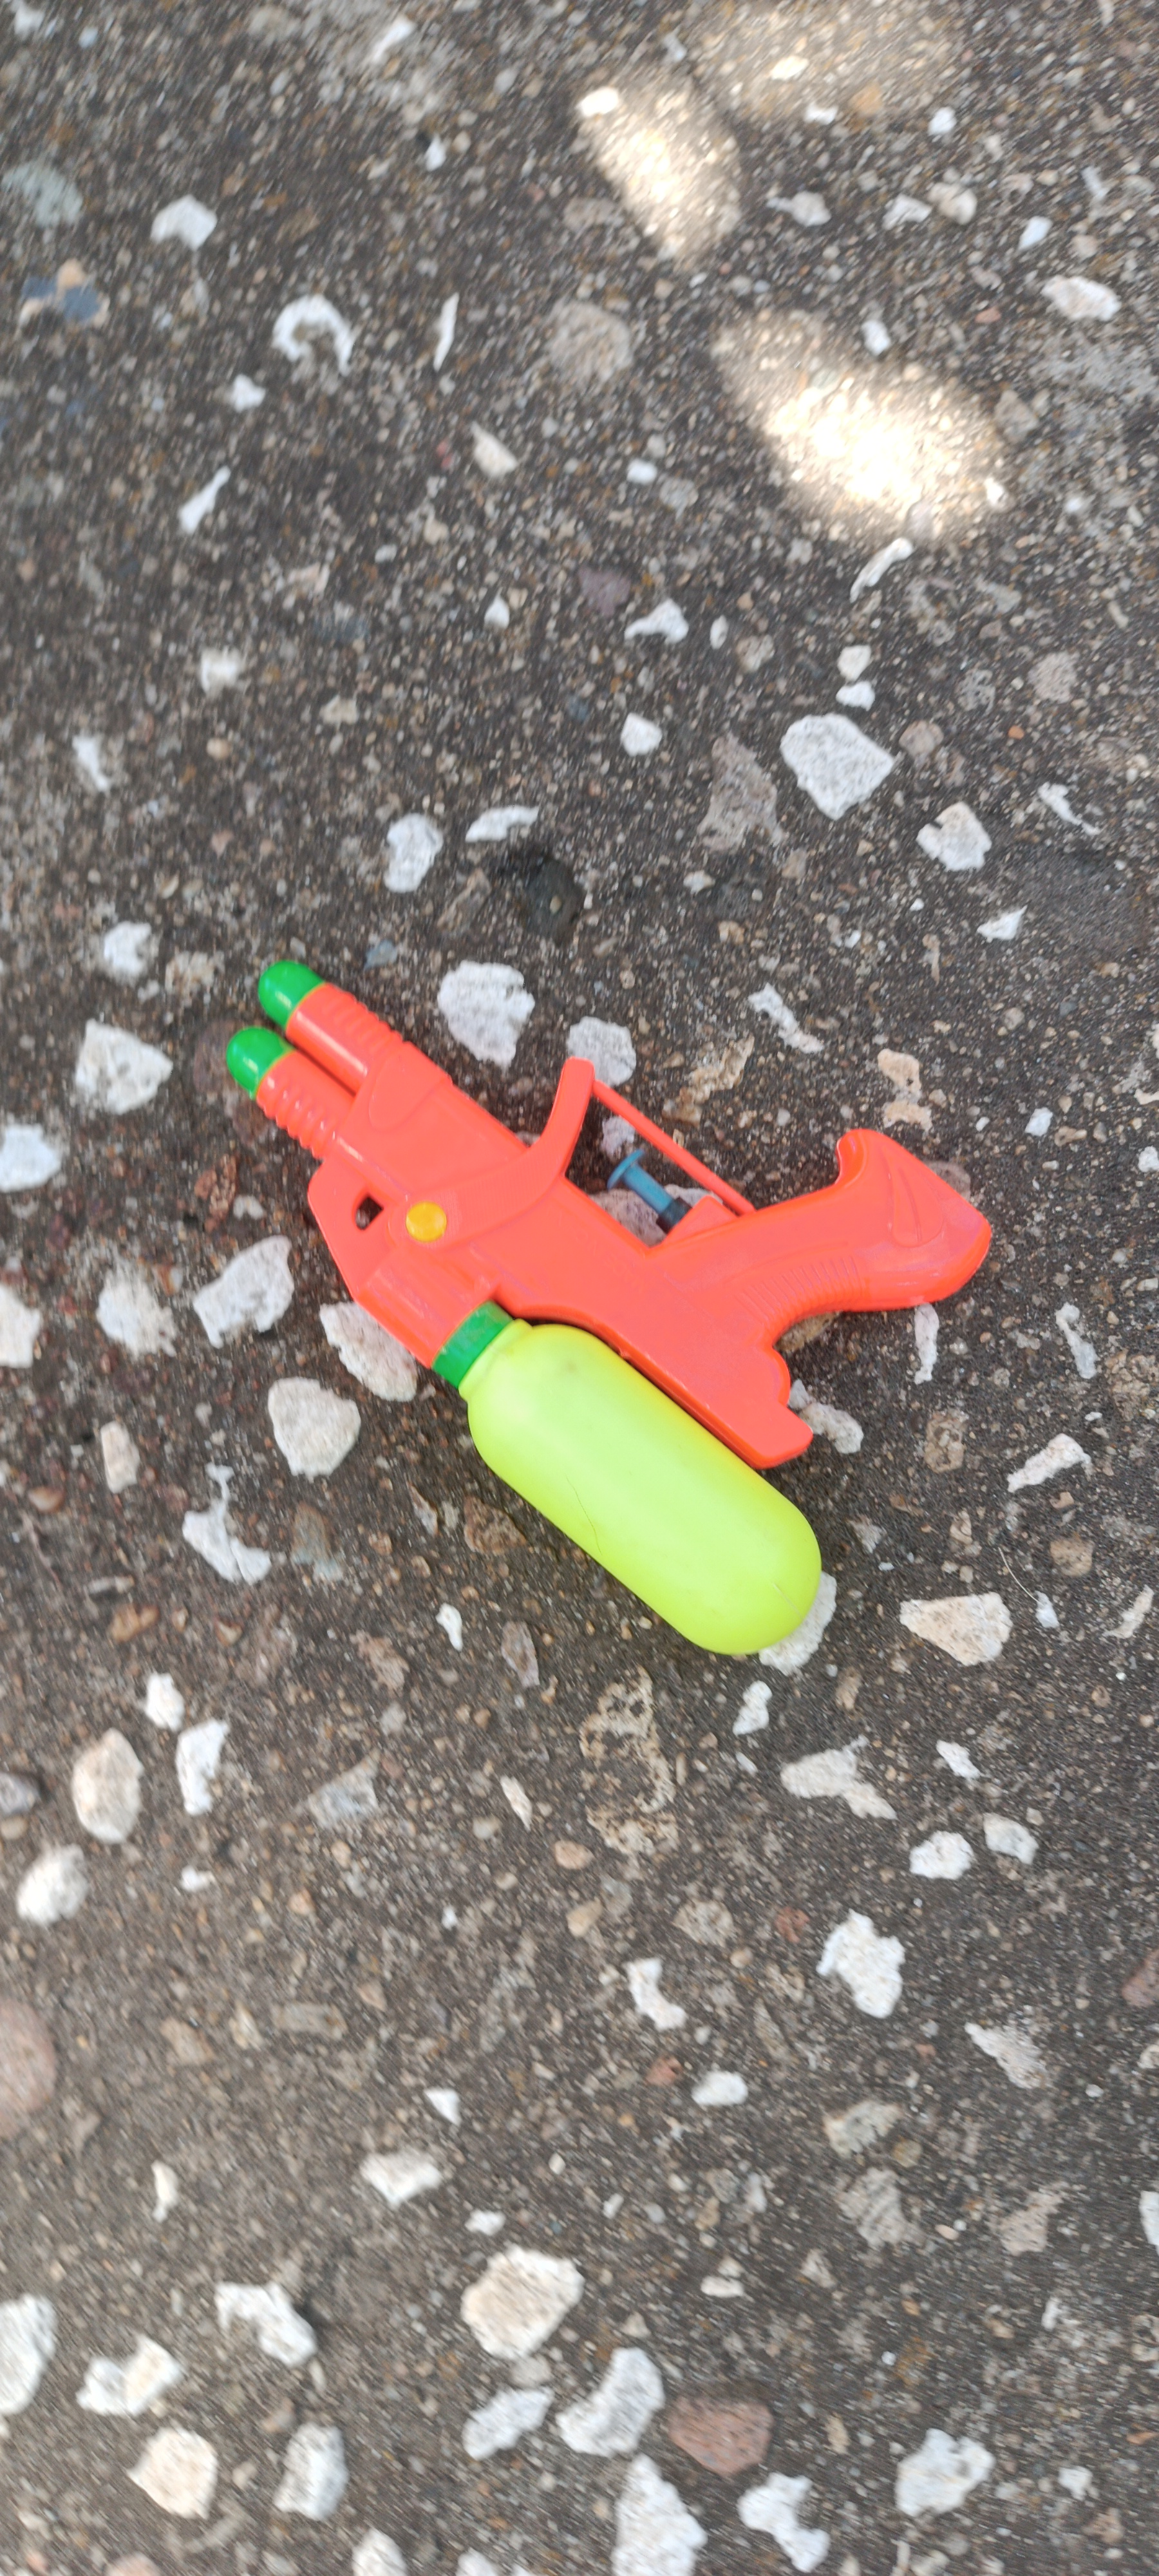Water Gun: (223, 959, 995, 1654)
